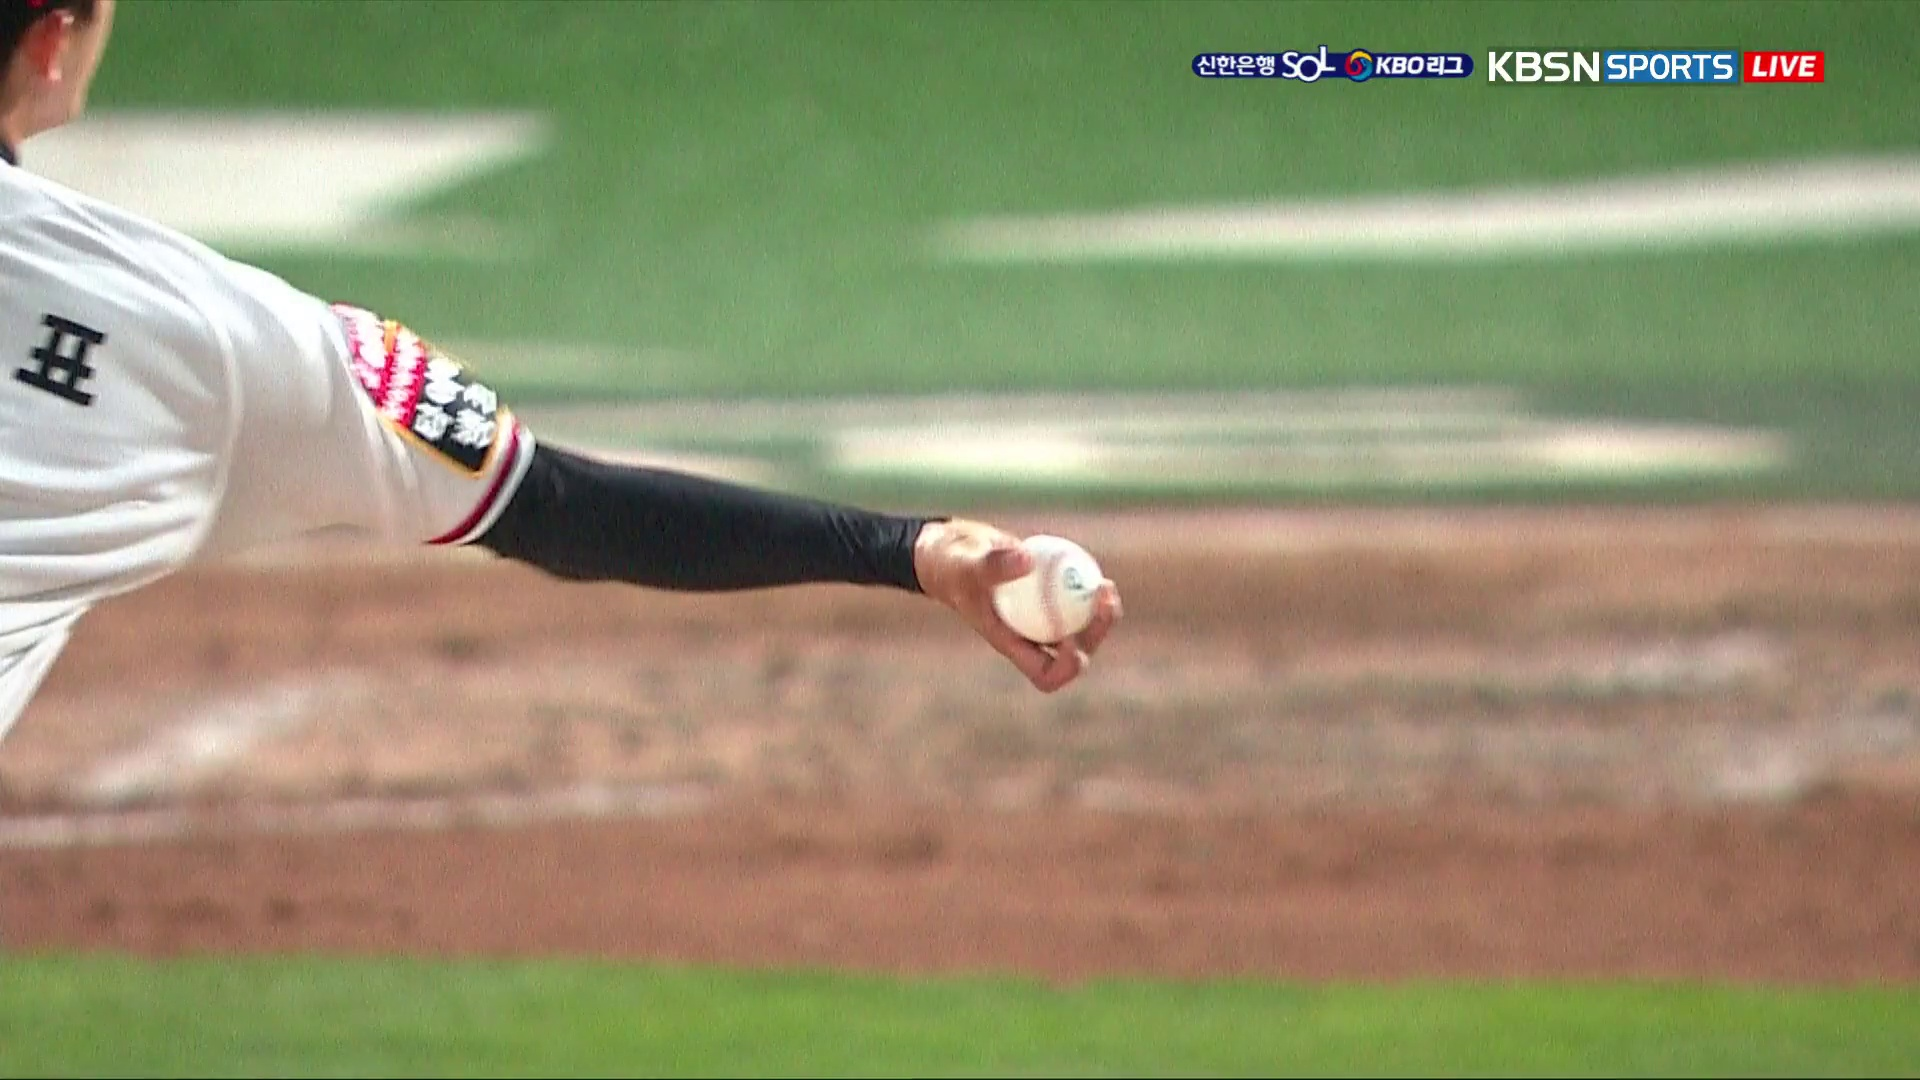zoomin_hand: (502, 389, 1133, 700)
